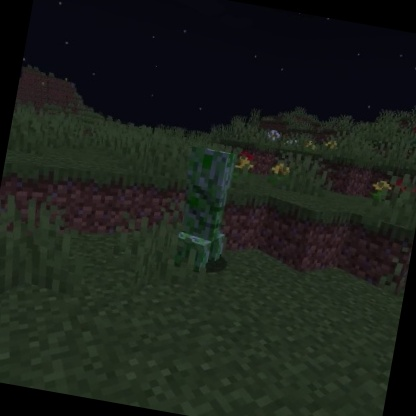creeper: (169, 143, 244, 277)
